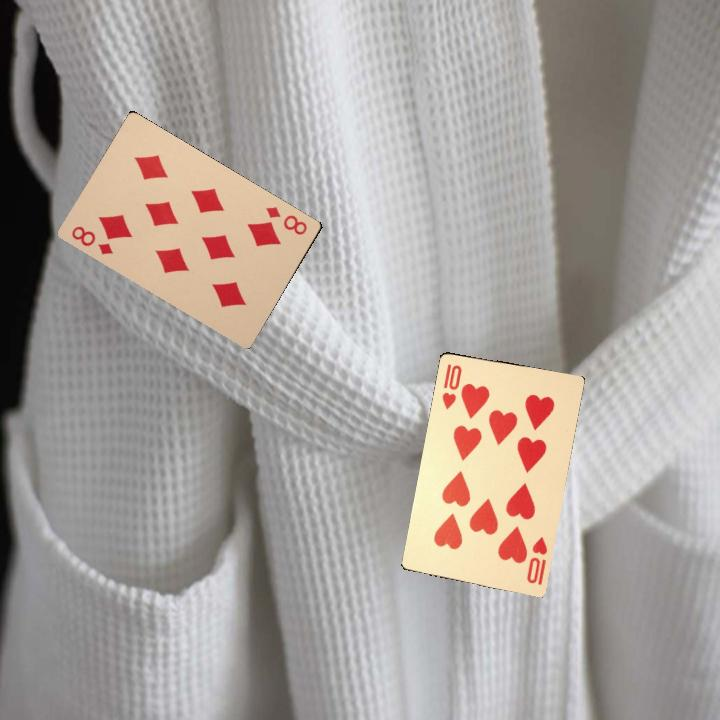10h: (523, 533, 550, 588), (438, 360, 464, 412)
8d: (261, 202, 310, 238), (67, 222, 116, 257)
